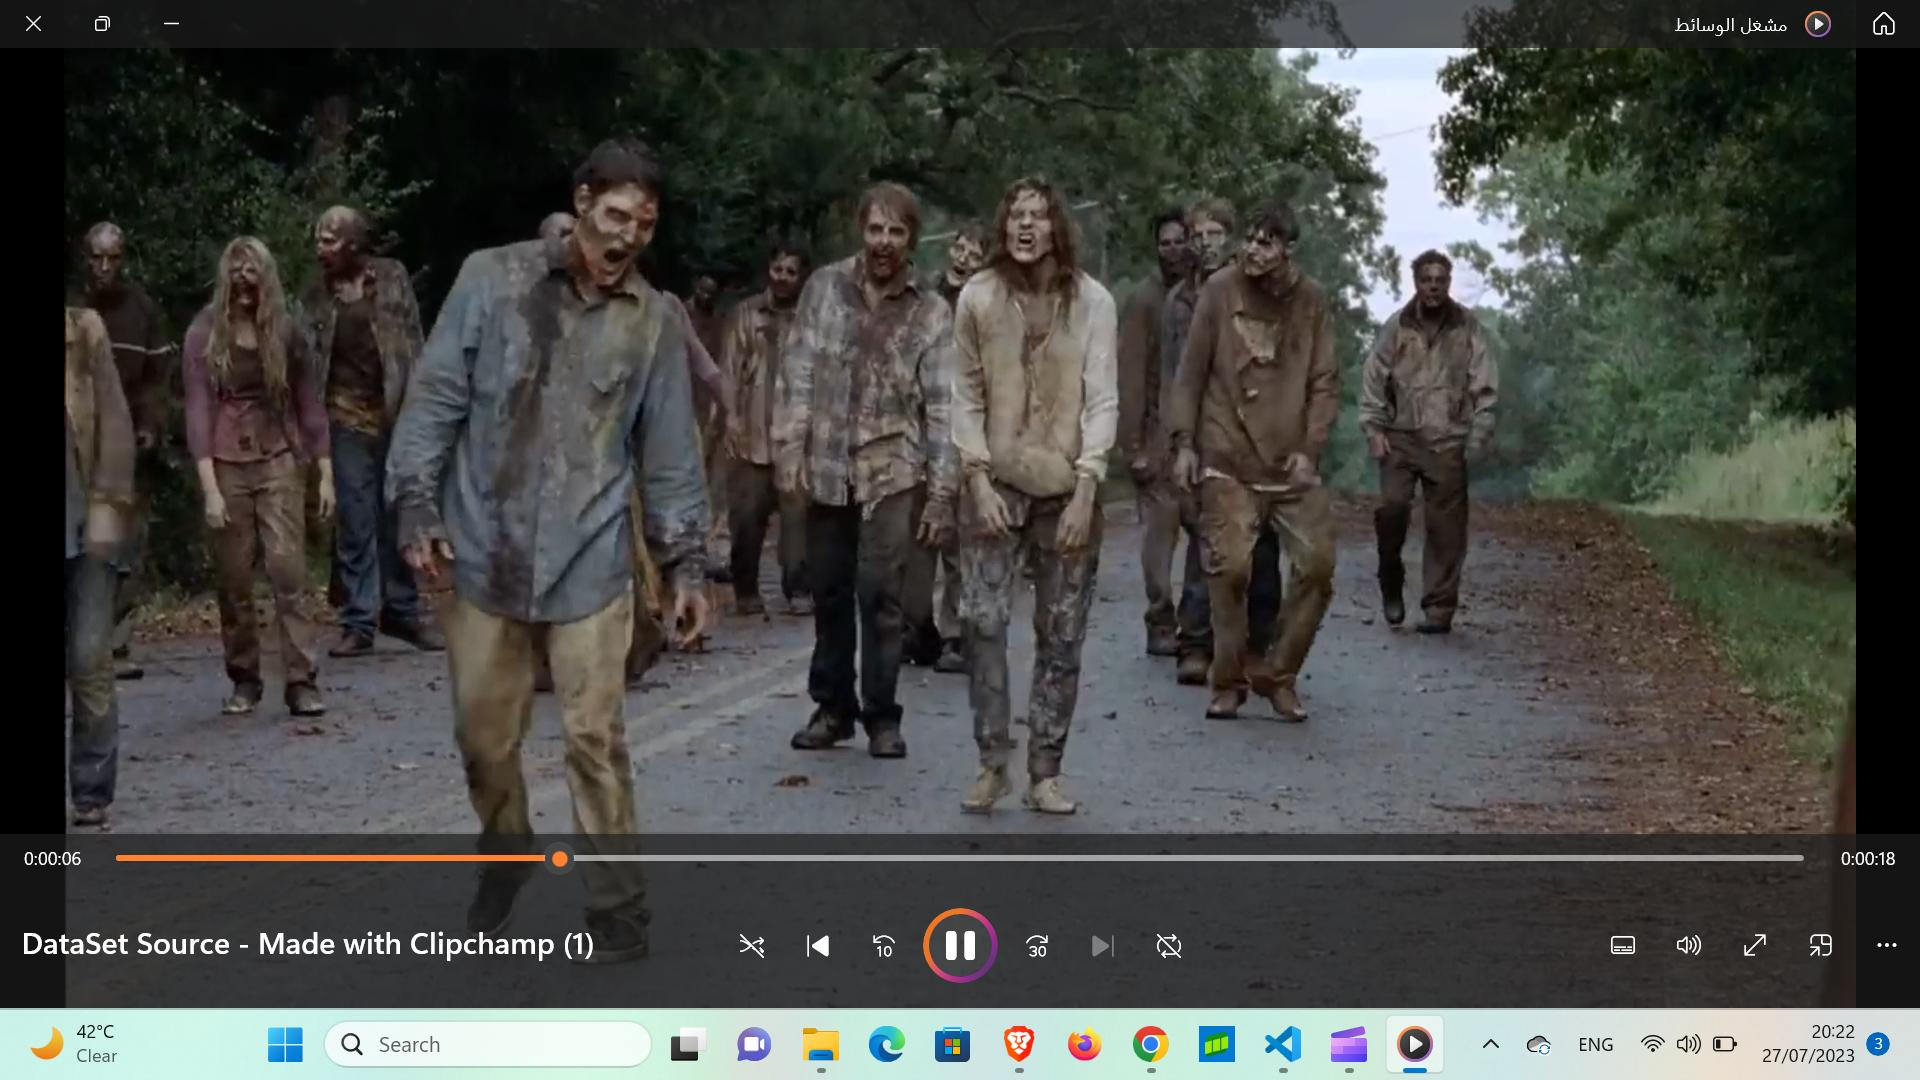Zombie: (571, 153, 654, 286), (998, 187, 1060, 265), (307, 212, 357, 284), (1237, 210, 1282, 281), (225, 240, 265, 315), (87, 220, 123, 299), (869, 211, 909, 281), (1188, 204, 1228, 269), (1411, 252, 1452, 307), (1155, 216, 1185, 272), (767, 253, 800, 303)
